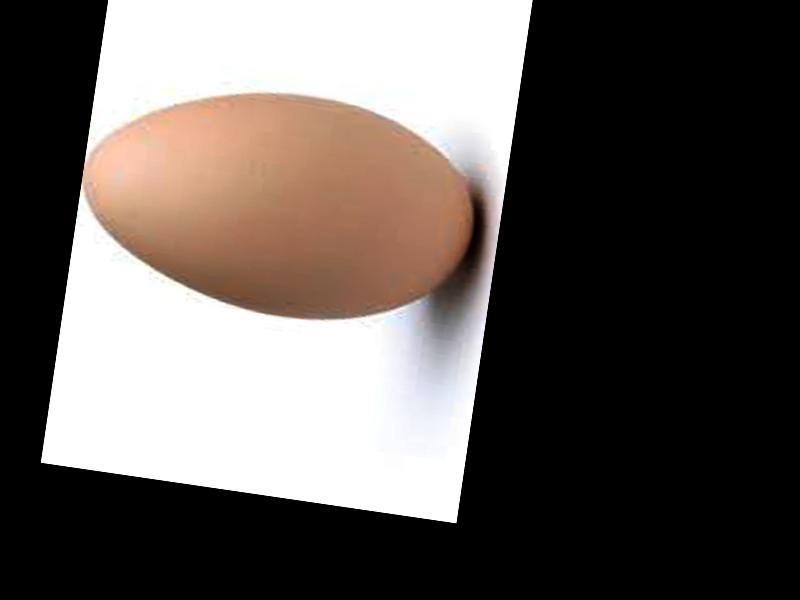Eggs: (69, 68, 492, 341)
